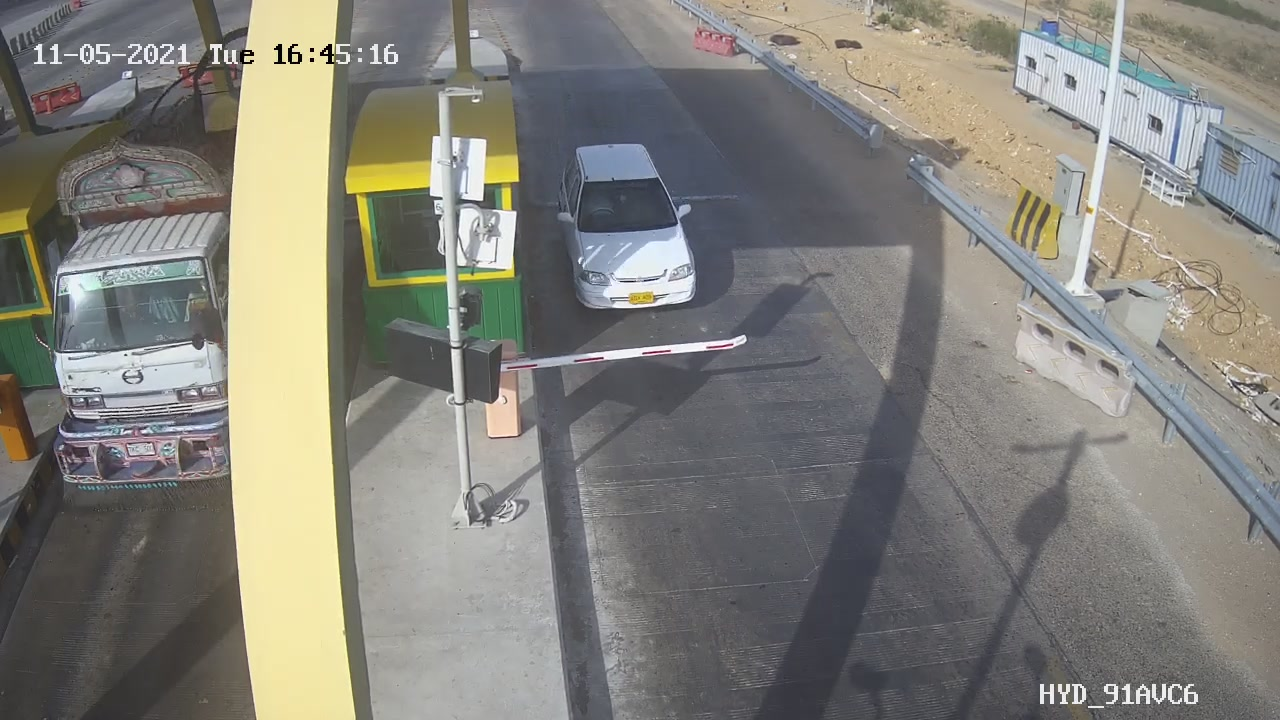F1: (533, 131, 729, 325)
